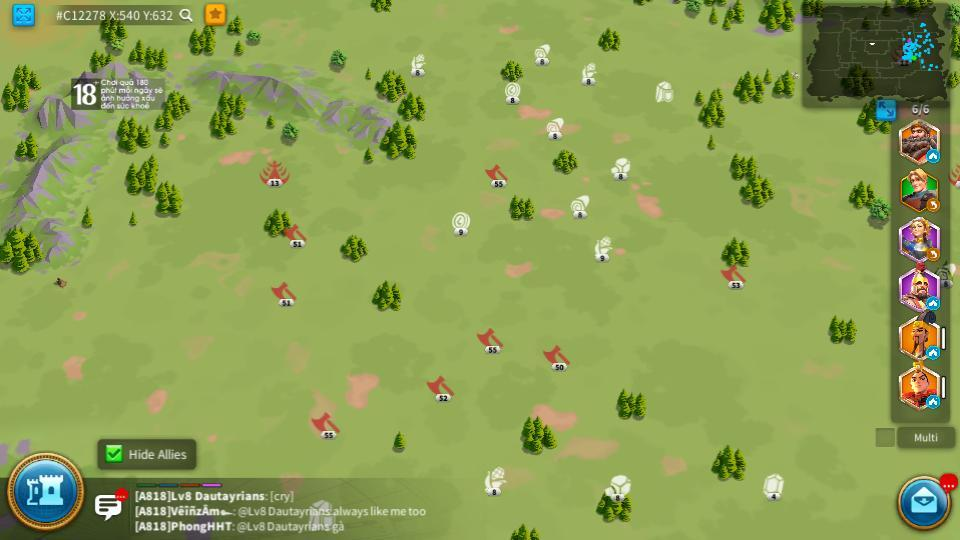gem-z-out: (761, 474, 787, 499)
march_idle: (926, 396, 941, 407), (926, 348, 940, 359), (927, 151, 940, 162), (925, 297, 938, 307)
march_returning: (927, 201, 941, 212), (925, 249, 938, 260)
